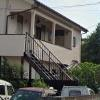stairs: (26, 49, 59, 81)
